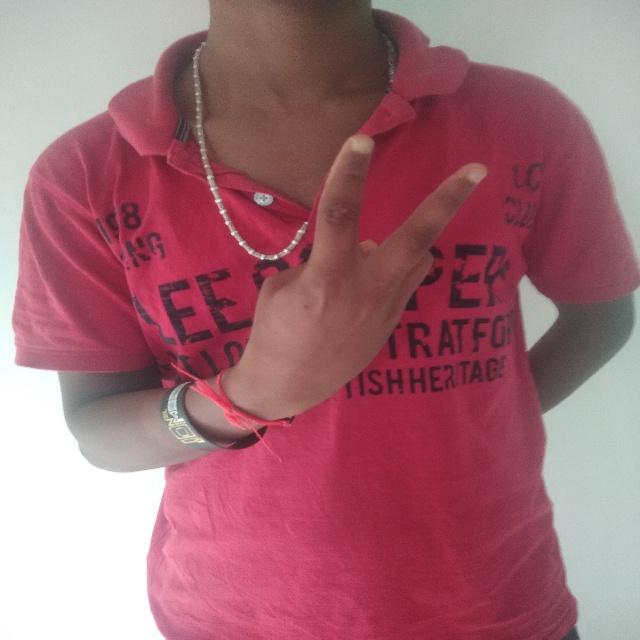Reversed Victory: (194, 137, 494, 453)
